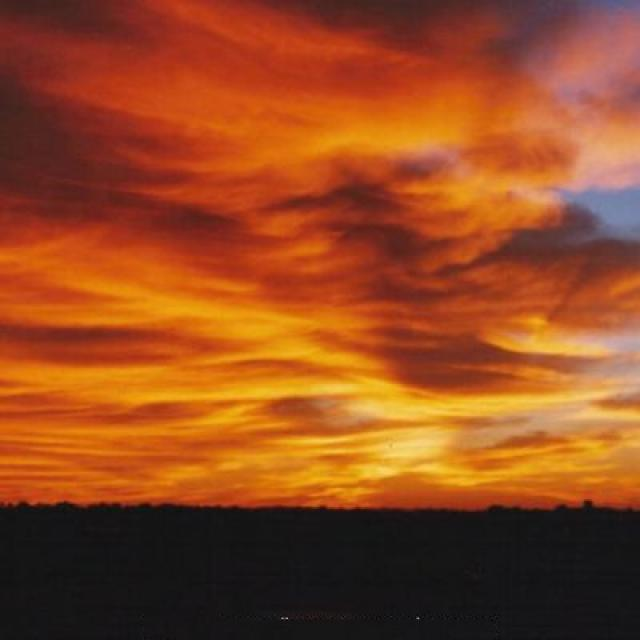As: (1, 20, 640, 479)
